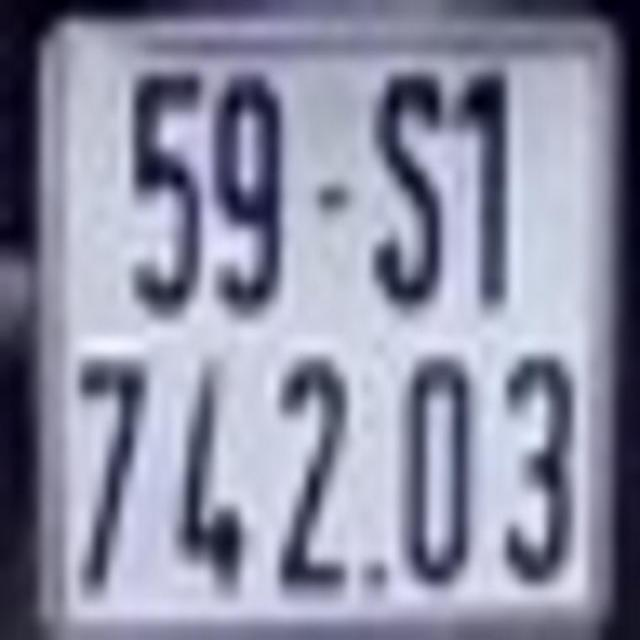0: (404, 352, 472, 585)
1: (455, 67, 520, 319)
2: (275, 354, 352, 592)
3: (503, 353, 574, 586)
4: (175, 354, 254, 604)
5: (132, 74, 202, 317)
7: (75, 360, 149, 593)
9: (210, 76, 284, 316)
S: (369, 71, 446, 316)
